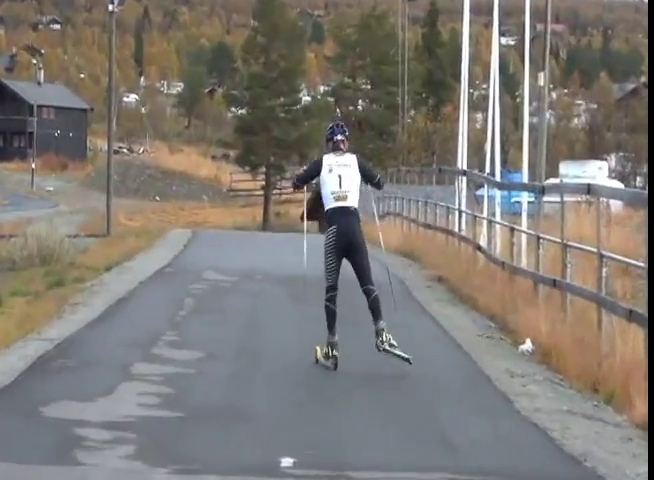person: (293, 121, 413, 370)
